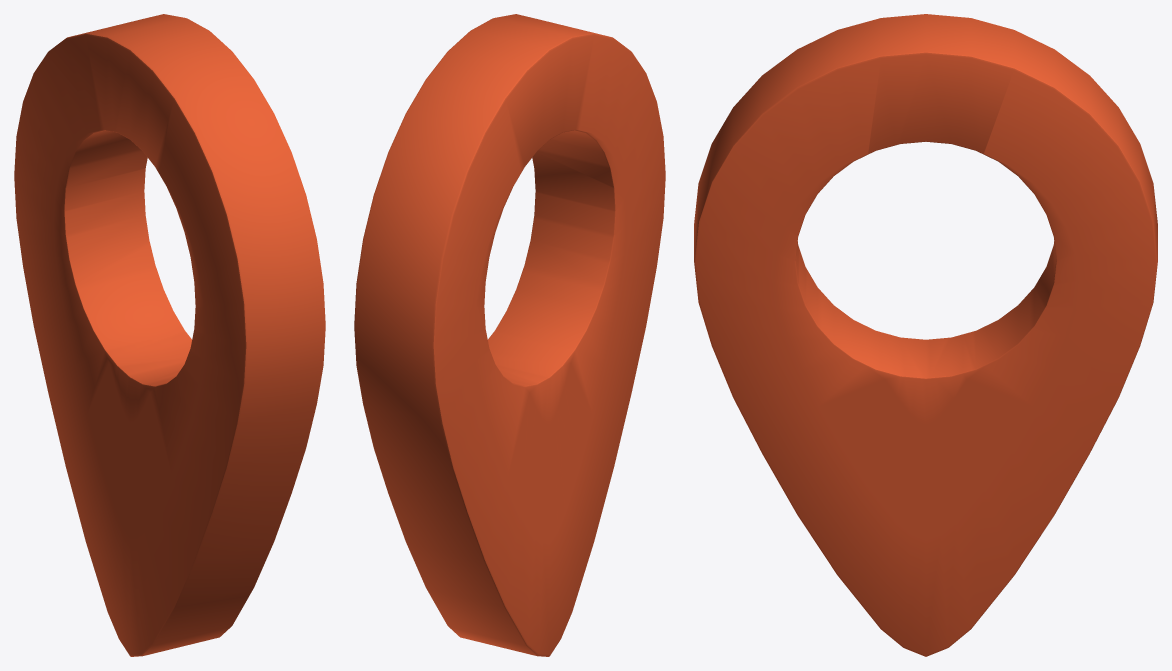
The model's file is OrangePins.fbx.
The picture shows the model from 3 angles, left to right: view 1: azimuth 30°, elevation 25°; view 2: azimuth 150°, elevation 25°; view 3: azimuth 270°, elevation 25°; orthographic projection.
Parts seen in each view (by area): view 1: OrangePins; view 2: OrangePins; view 3: OrangePins.
Boxes of the visible parts, x1,y1,x2,y2 form: OrangePins: [14, 14, 325, 656]; OrangePins: [354, 14, 665, 656]; OrangePins: [694, 14, 1157, 656].
Bounding box in the file's own units: 69.62 × 100 × 13.91.
